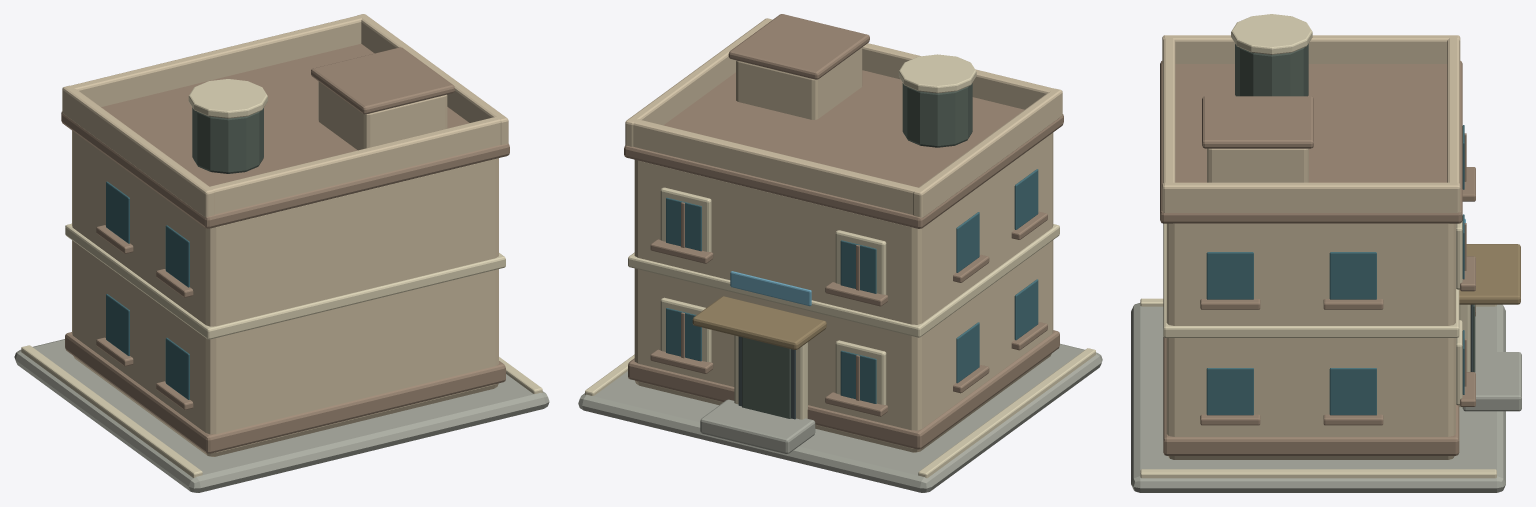
File: garrison.glb
3 views of the same model, side by side, from view 1: azimuth 30°, elevation 25°; view 2: azimuth 150°, elevation 25°; view 3: azimuth 270°, elevation 25° (orthographic). The views are drawn at different scales.
Parts seen in each view (by area): view 1: body; view 2: body; view 3: body.
Part boxes in pixels (x1,y1,x2,y2): body: (14, 14, 549, 492); body: (578, 14, 1102, 492); body: (1131, 14, 1521, 492).
Size of the model in its own units: 6.5 by 5.66 by 5.94.
